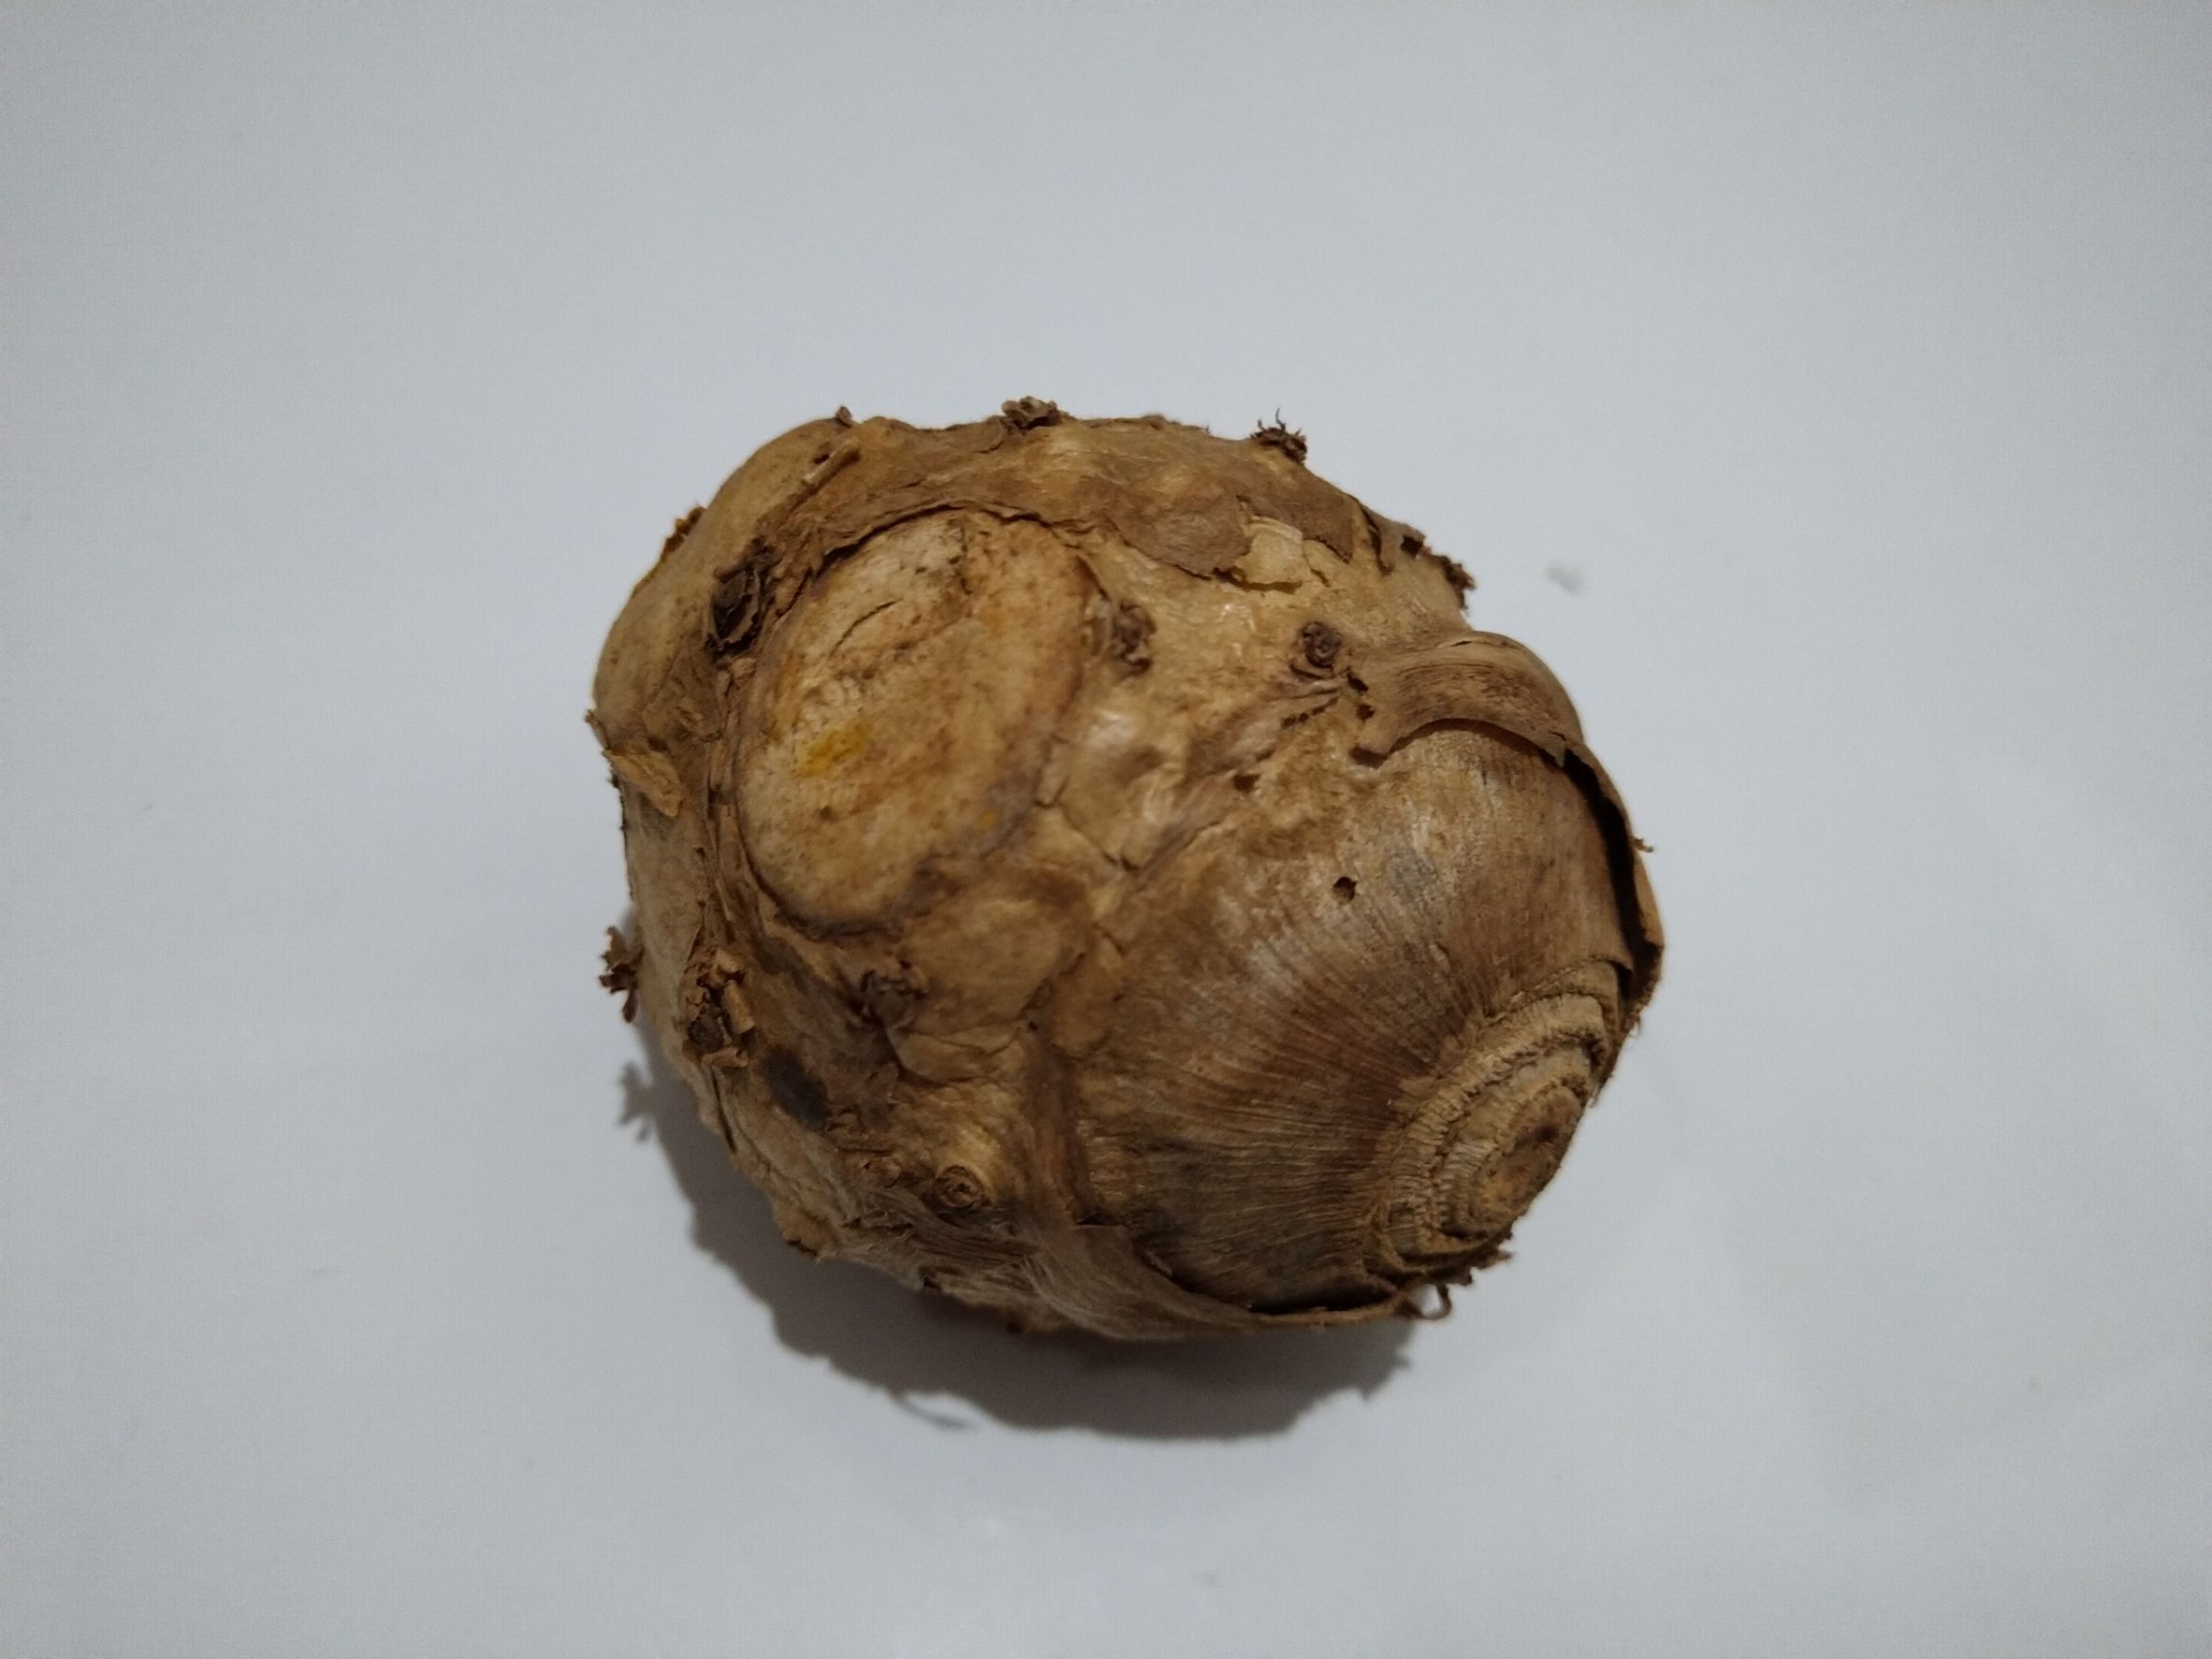Temulawak: (578, 399, 1689, 1396)
